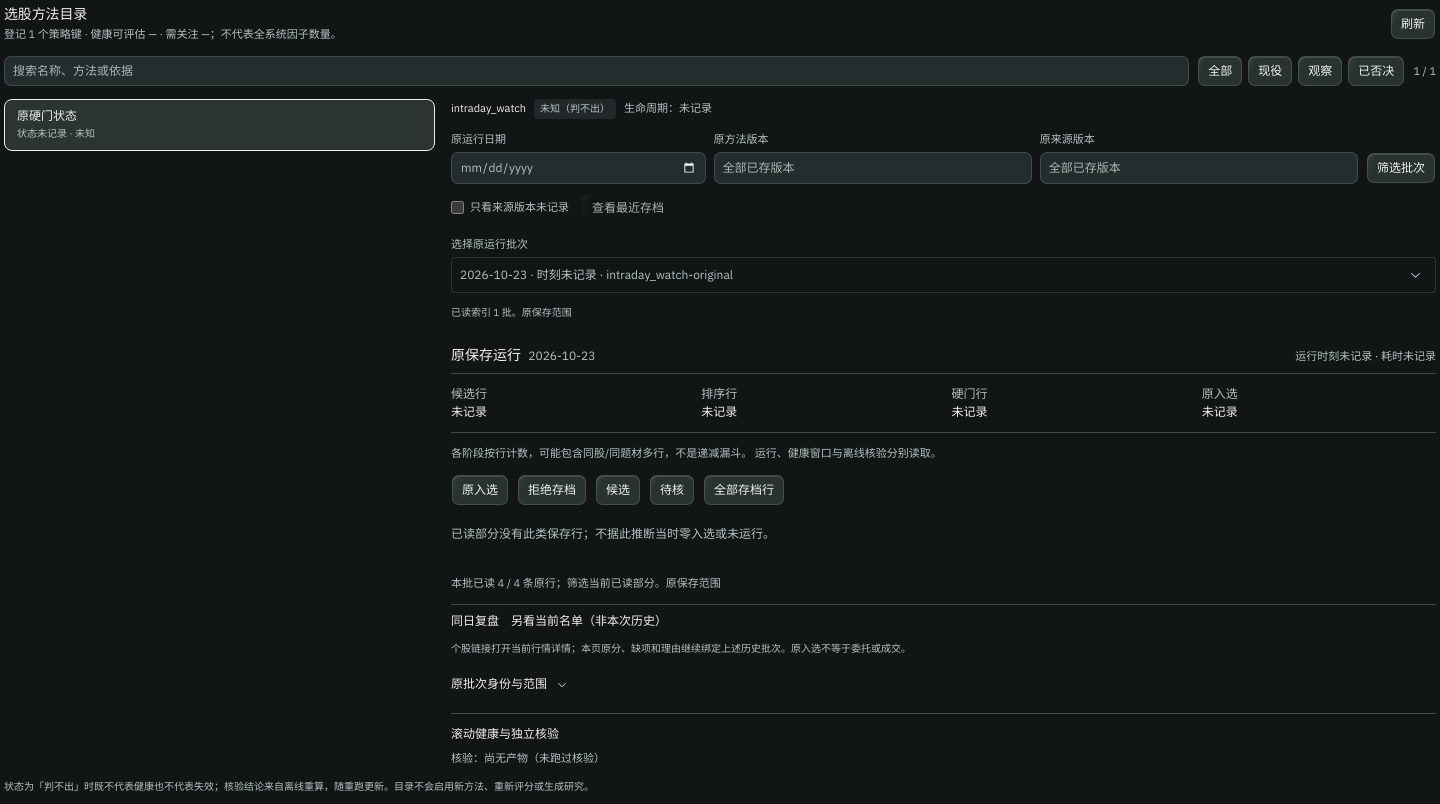
Scenario: 硬门通过、待核、拒绝按原 decision 展示，不互相冒充
expect the text "各阶段按行计数，可能包含同股/同题材多行，不是递减漏斗。 运行、健康窗口与离线核验分别读取。" is shown: met, box [451,446,942,460]
Click the button "候选". click: coordinates (618, 490)
box: [595,474,641,506]
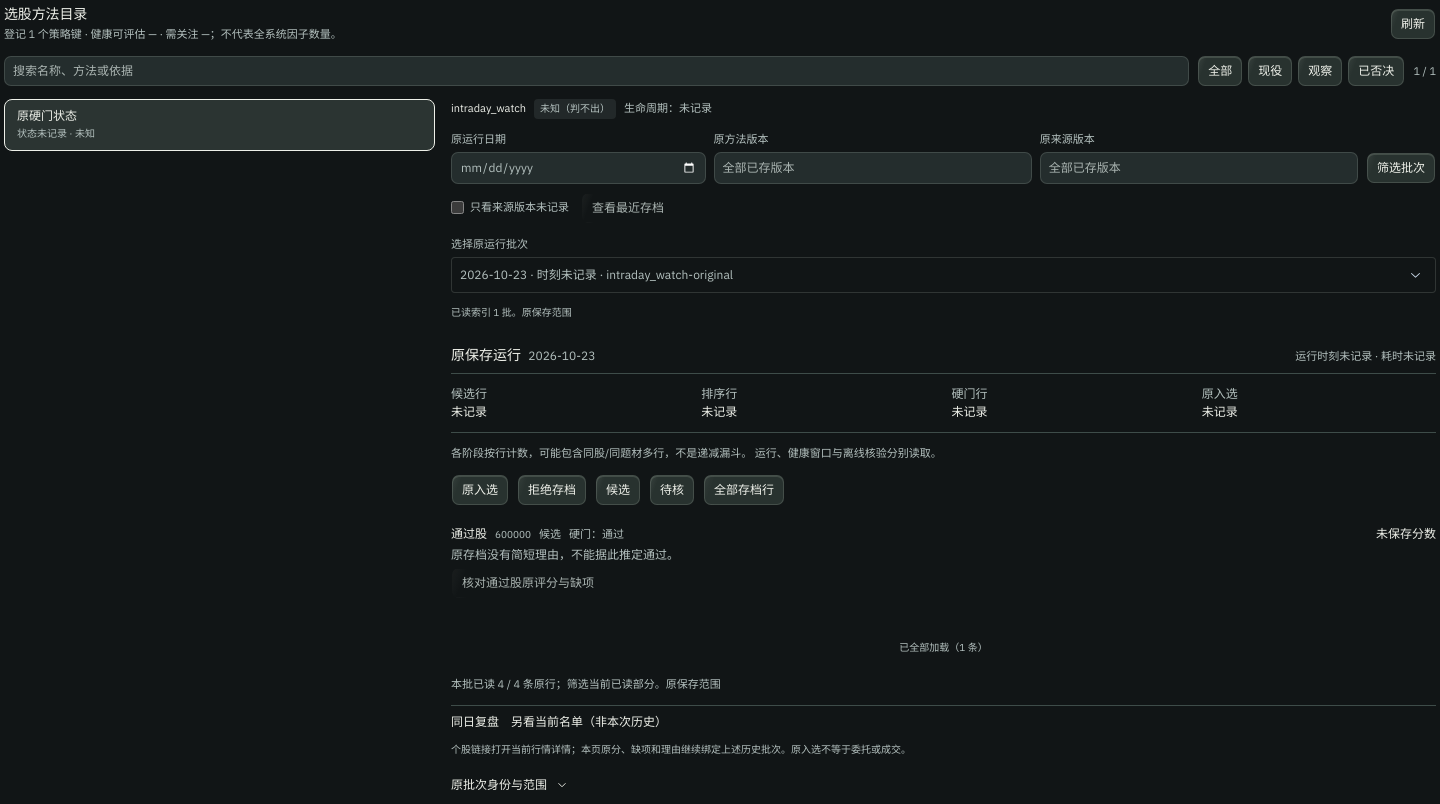
expect the text "待核股" is not shown: met
expect the link "通过股" is shown: met, box [451,526,487,542]
expect the text "硬门：通过" is shown: met, box [569,526,624,542]
Click the button "待核". click: coordinates (672, 490)
box: [649,474,695,506]
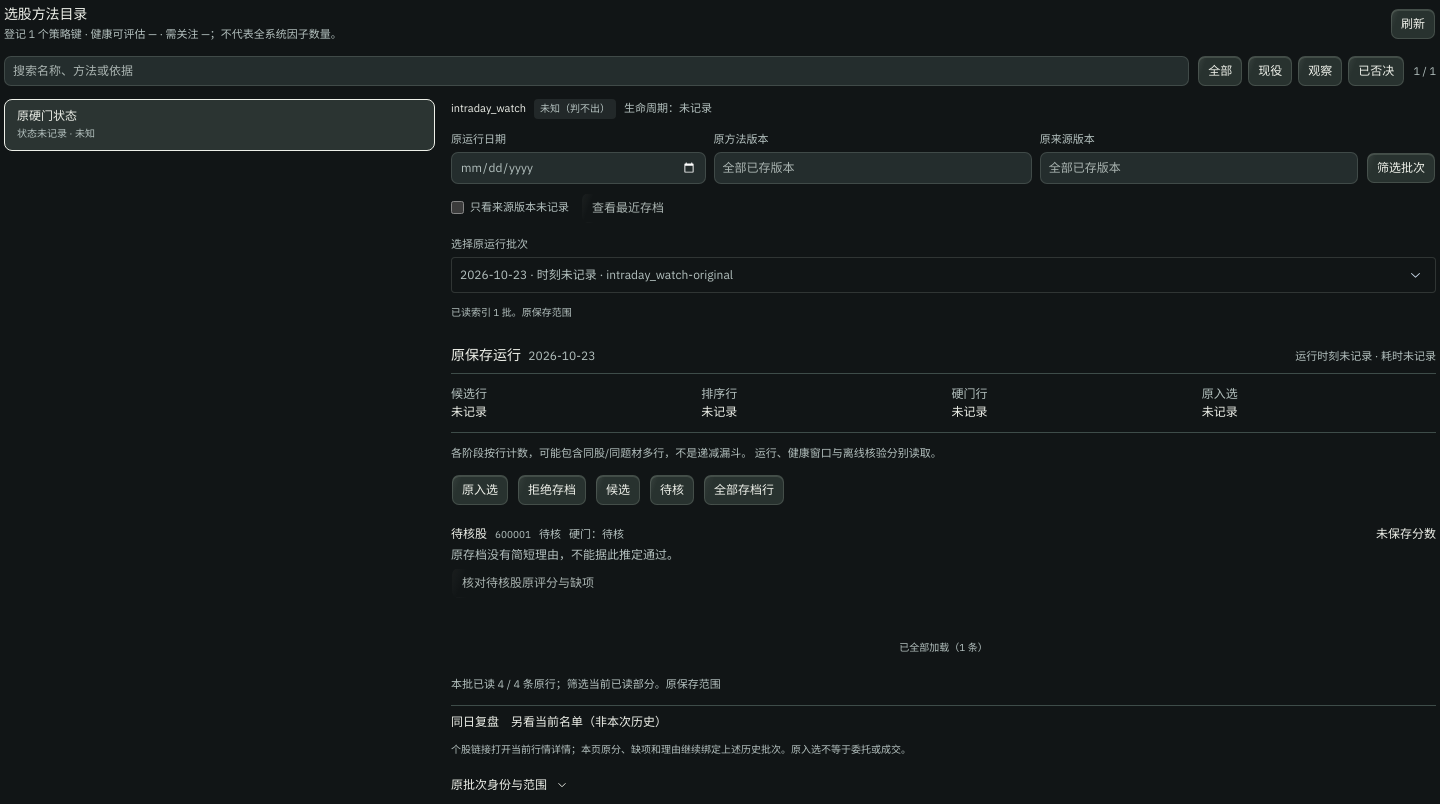
expect the link "待核股" is shown: met, box [451,526,487,542]
expect the text "硬门：待核" is shown: met, box [569,526,624,542]
Click the button "拒绝存档". click: coordinates (552, 490)
box: [517,474,587,506]
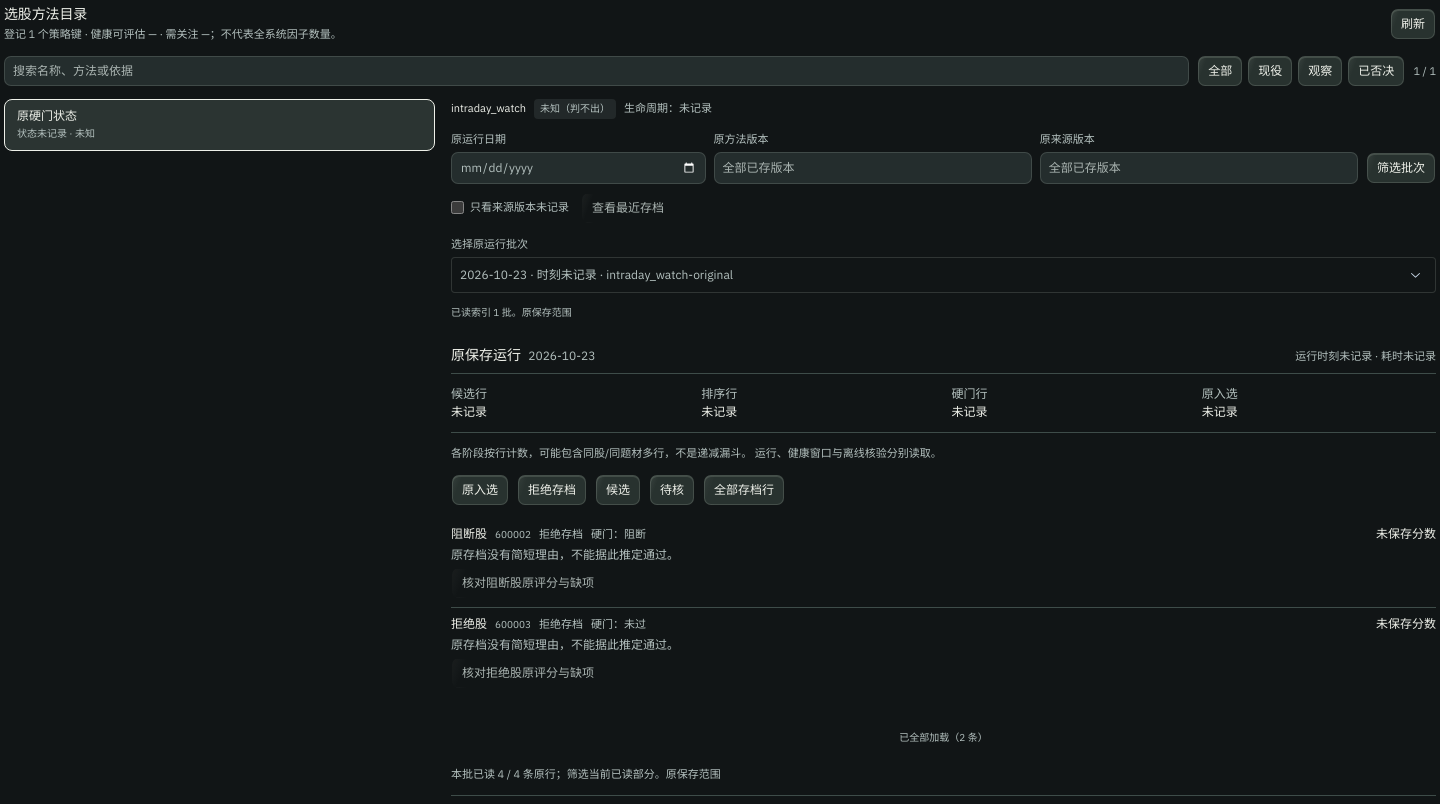
expect the text "硬门：阻断" is shown: met, box [591,526,646,542]
expect the text "硬门：未过" is shown: met, box [591,616,646,632]
